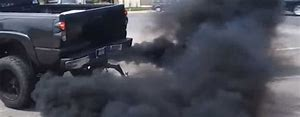smoke: (38, 70, 273, 117), (129, 1, 281, 72)
